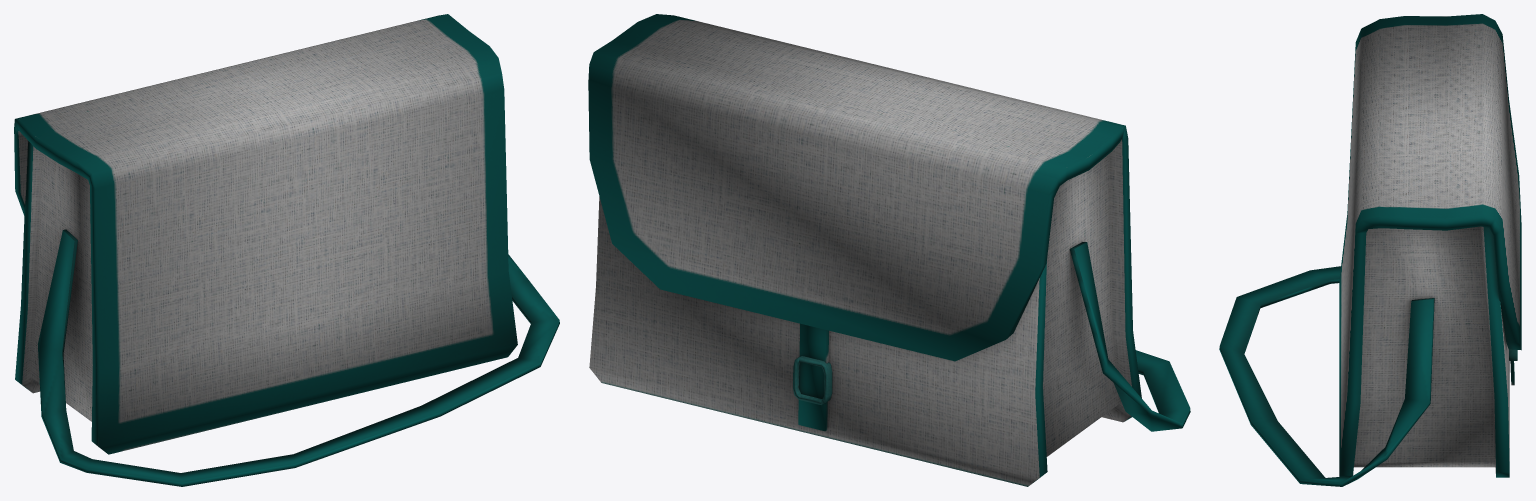
Rendered from messenger_bag_2.fbx.
3 views of the same model, side by side, from view 1: azimuth 30°, elevation 25°; view 2: azimuth 150°, elevation 25°; view 3: azimuth 270°, elevation 25° (orthographic). The views are drawn at different scales.
Visible parts, largest first — view 1: messenger_bag_2; view 2: messenger_bag_2; view 3: messenger_bag_2.
Boxes of the visible parts, x1,y1,x2,y2 form: messenger_bag_2: (14, 14, 559, 486); messenger_bag_2: (588, 14, 1190, 486); messenger_bag_2: (1219, 14, 1521, 486).
Bounding box in the file's own units: 0.9126 × 0.4969 × 0.4989.
